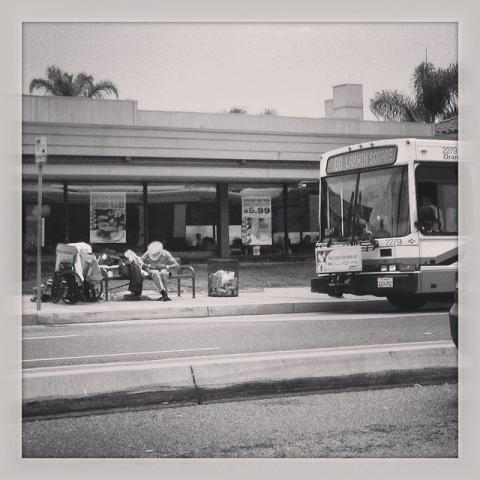bus: (310, 138, 457, 308)
